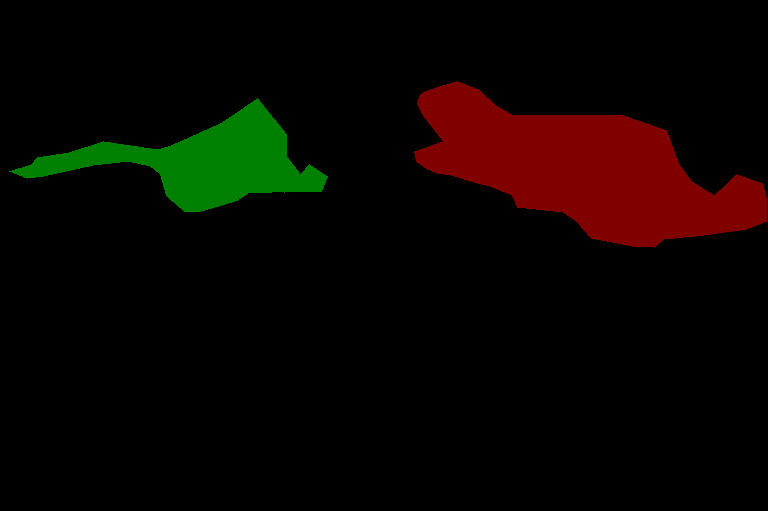fire: (414, 81, 766, 247), (9, 98, 327, 211)
